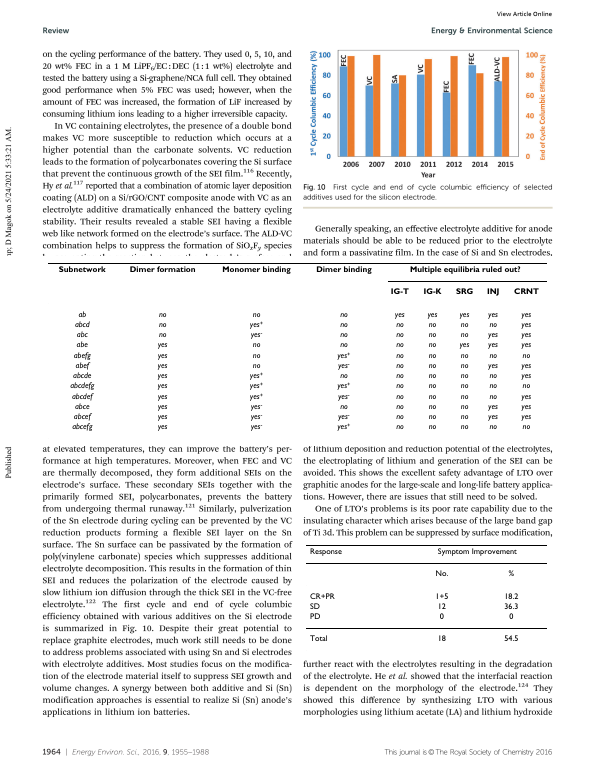borderless: (46, 261, 548, 440), (304, 543, 548, 652)
cell: (408, 266, 521, 275), (436, 548, 517, 557), (221, 266, 291, 275), (128, 266, 196, 275), (315, 266, 372, 275), (57, 266, 106, 275), (308, 548, 342, 557), (308, 592, 335, 602), (513, 288, 539, 297), (69, 382, 95, 391), (70, 392, 93, 402), (71, 423, 93, 432), (72, 351, 91, 361), (308, 635, 328, 644), (389, 288, 409, 297), (422, 288, 442, 297), (454, 288, 474, 297), (72, 372, 92, 381), (72, 413, 91, 422), (73, 320, 90, 330), (73, 402, 90, 412), (503, 592, 519, 602), (503, 602, 519, 612), (74, 361, 90, 371), (434, 592, 449, 602), (249, 320, 264, 330), (336, 351, 351, 361), (249, 392, 264, 402), (503, 635, 519, 644), (249, 402, 263, 412), (434, 570, 449, 579), (485, 288, 500, 297), (249, 372, 264, 381), (249, 382, 264, 391), (336, 382, 351, 391), (336, 423, 351, 432), (337, 361, 350, 371), (337, 392, 350, 402), (249, 331, 263, 340), (249, 413, 263, 422), (249, 423, 263, 432), (308, 602, 320, 612), (426, 310, 438, 320), (458, 310, 470, 320), (520, 310, 532, 320), (520, 320, 532, 330), (156, 351, 168, 361), (156, 361, 168, 371), (520, 361, 532, 371), (156, 392, 168, 402), (520, 392, 532, 402), (156, 402, 168, 412), (520, 402, 532, 412), (308, 613, 321, 622), (75, 331, 88, 340), (75, 341, 88, 350), (337, 413, 350, 422), (394, 310, 405, 320), (487, 310, 498, 320), (487, 361, 498, 371), (487, 402, 498, 412), (520, 331, 532, 340), (156, 341, 168, 350), (458, 341, 470, 350), (520, 341, 532, 350), (156, 372, 168, 381), (520, 372, 532, 381), (156, 382, 168, 391), (156, 413, 168, 422), (520, 413, 532, 422), (156, 423, 168, 432), (436, 602, 446, 612), (77, 310, 87, 320), (157, 310, 167, 320), (251, 310, 261, 320), (157, 320, 167, 330), (427, 320, 437, 330), (459, 320, 469, 330), (251, 351, 261, 361), (427, 351, 437, 361), (459, 351, 469, 361), (521, 351, 531, 361), (251, 361, 261, 371), (427, 361, 437, 371), (459, 361, 469, 371), (427, 392, 437, 402), (459, 392, 469, 402), (427, 402, 437, 412), (459, 402, 469, 412), (487, 331, 498, 340), (487, 341, 498, 350), (487, 413, 498, 422), (436, 635, 446, 644), (339, 310, 348, 320), (339, 320, 348, 330), (395, 320, 404, 330), (488, 320, 497, 330), (157, 331, 167, 340), (427, 331, 437, 340), (459, 331, 469, 340), (251, 341, 261, 350), (427, 341, 437, 350), (395, 351, 404, 361), (488, 351, 497, 361), (395, 361, 404, 371), (427, 372, 437, 381), (459, 372, 469, 381), (427, 382, 437, 391), (459, 382, 469, 391), (521, 382, 531, 391), (395, 392, 404, 402), (488, 392, 497, 402), (339, 402, 348, 412), (395, 402, 404, 412), (427, 413, 437, 422), (459, 413, 469, 422), (427, 423, 437, 432), (459, 423, 469, 432), (521, 423, 531, 432), (339, 331, 348, 340), (395, 331, 404, 340), (339, 341, 348, 350), (395, 341, 404, 350), (339, 372, 348, 381), (395, 372, 404, 381), (488, 372, 497, 381), (395, 382, 404, 391), (488, 382, 497, 391), (395, 413, 404, 422), (395, 423, 404, 432), (488, 423, 497, 432), (507, 570, 515, 579), (438, 613, 444, 622), (508, 613, 514, 622)
